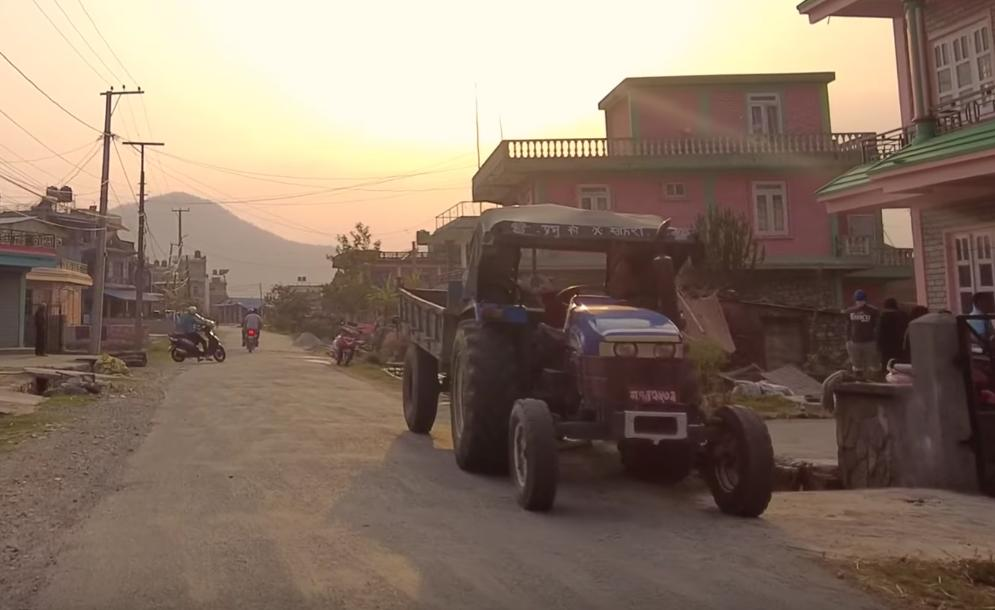bike: (238, 324, 264, 356)
scooter: (169, 318, 227, 365), (329, 323, 365, 367)
tractor: (438, 195, 779, 532)
